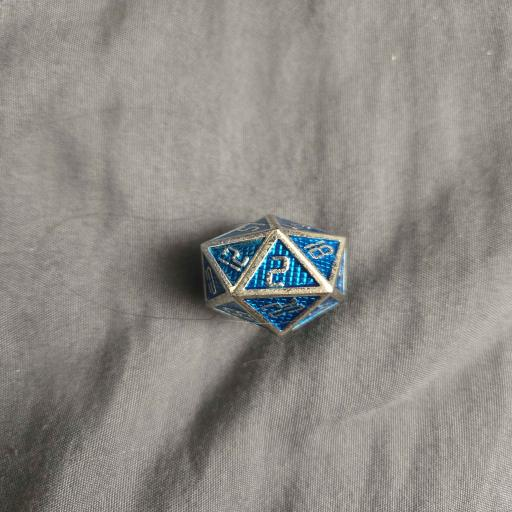twenty sided dice: (200, 214, 347, 335)
